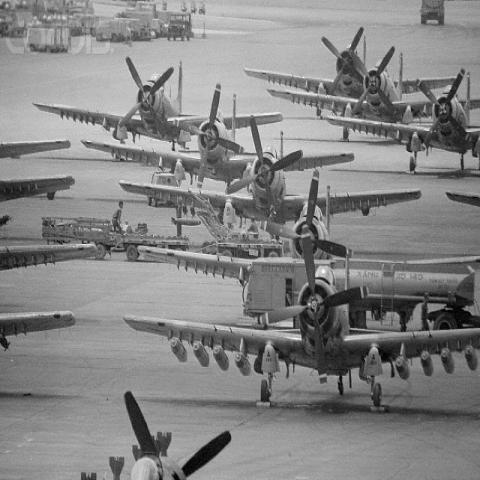car: (421, 0, 444, 26)
truck: (29, 29, 71, 54), (167, 13, 194, 42), (96, 20, 128, 42)
